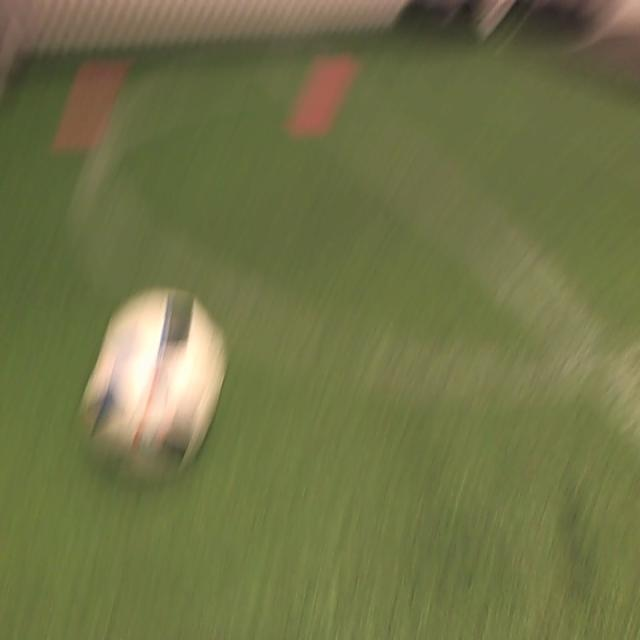ball: (81, 288, 229, 476)
